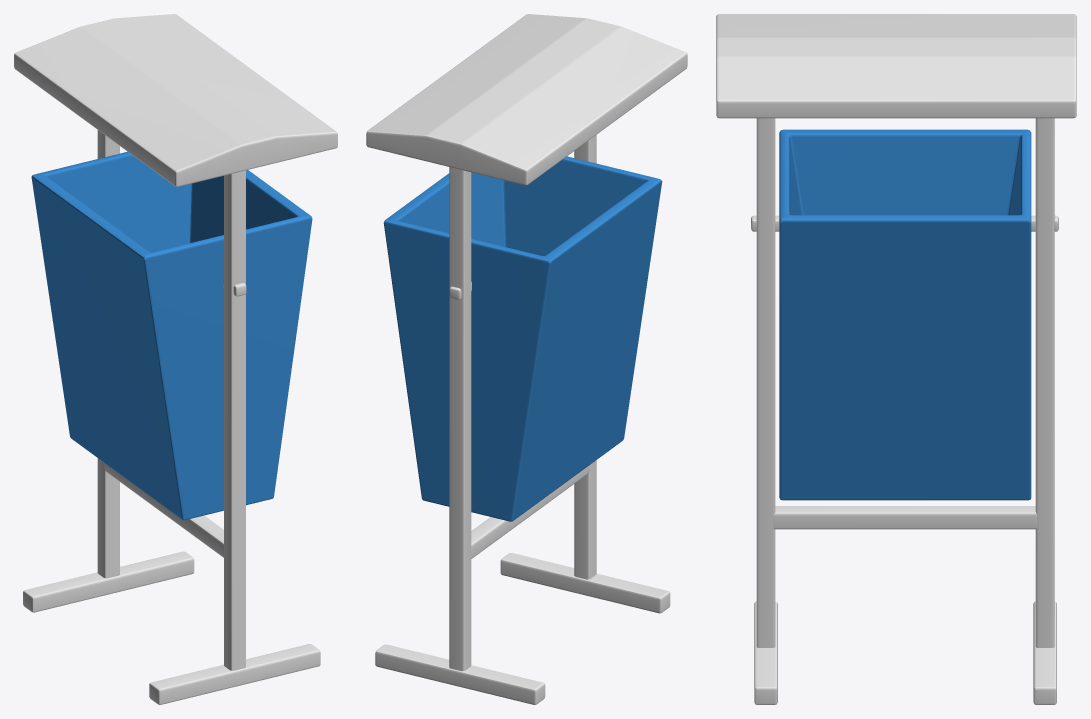
The model's file is cop.fbx.
The picture shows the model from 3 angles, left to right: view 1: azimuth 30°, elevation 25°; view 2: azimuth 150°, elevation 25°; view 3: azimuth 270°, elevation 25°; orthographic projection. The views are drawn at different scales.
Parts seen in each view (by area): view 1: pCube79; view 2: pCube79; view 3: pCube79.
Boxes of the visible parts, x1=… form: pCube79: x1=14, y1=14, x2=337, y2=704; pCube79: x1=366, y1=14, x2=687, y2=704; pCube79: x1=716, y1=14, x2=1076, y2=704.
Size of the model in its own units: 26.31 by 82.86 by 43.91.
